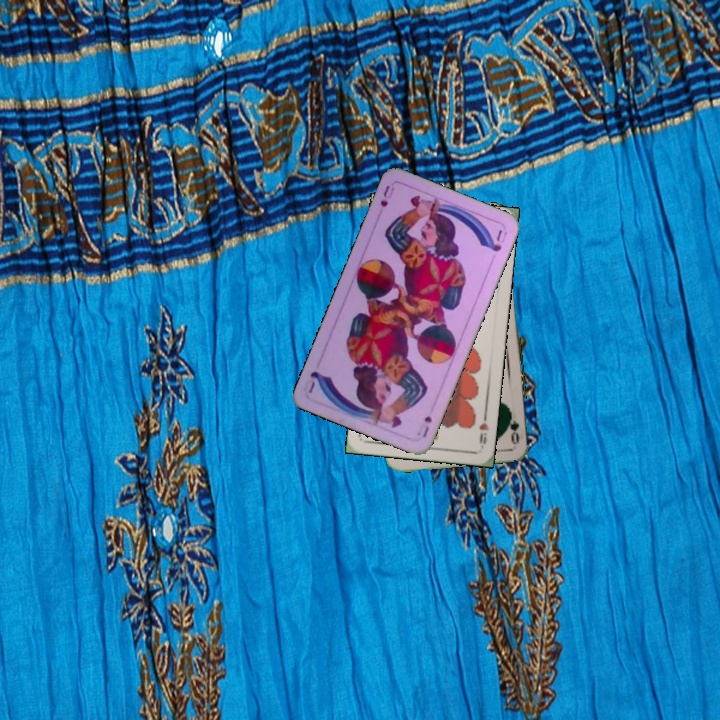GO: (504, 405, 522, 446)
H9: (475, 409, 491, 450)
SU: (374, 181, 397, 219), (413, 412, 435, 440)
